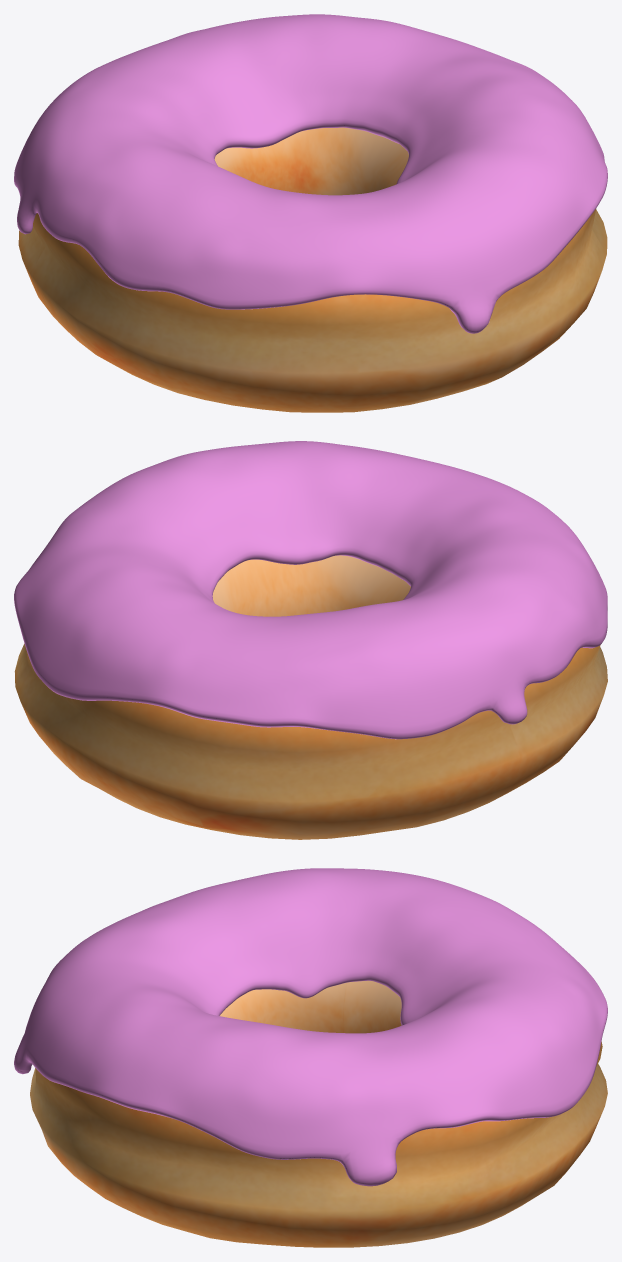
File: donut.glb
3 views of the same model, one above another, from view 1: azimuth 30°, elevation 25°; view 2: azimuth 150°, elevation 25°; view 3: azimuth 270°, elevation 25° (orthographic). The views are drawn at different scales.
Visible parts, largest first — view 1: icing.001, donut; view 2: icing.001, donut; view 3: icing.001, donut.
Part boxes in pixels (x1=…): icing.001: x1=14, y1=14, x2=607, y2=333; donut: x1=18, y1=127, x2=607, y2=412; icing.001: x1=14, y1=441, x2=607, y2=739; donut: x1=14, y1=555, x2=607, y2=839; icing.001: x1=14, y1=868, x2=607, y2=1186; donut: x1=30, y1=980, x2=607, y2=1247.
Bounding box in the file's own units: 0.1486 × 0.0587 × 0.1525.
Materials: 2 (1 with a texture image).
